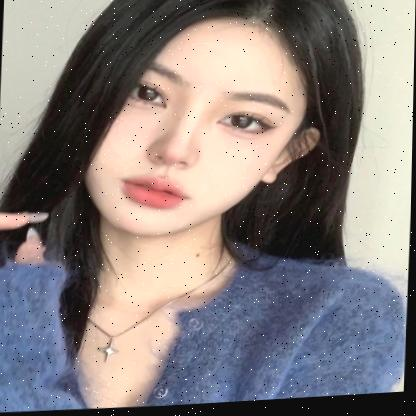person: (41, 0, 345, 252)
